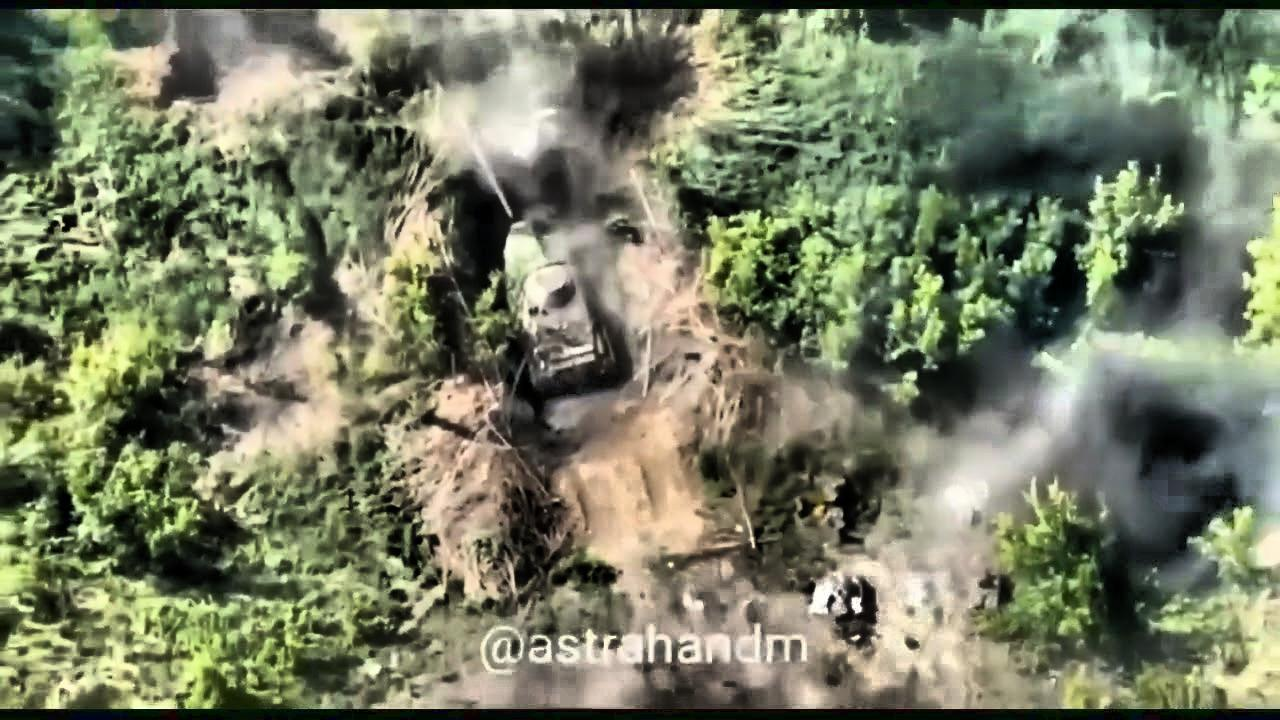military-vehicle: (458, 108, 621, 393)
